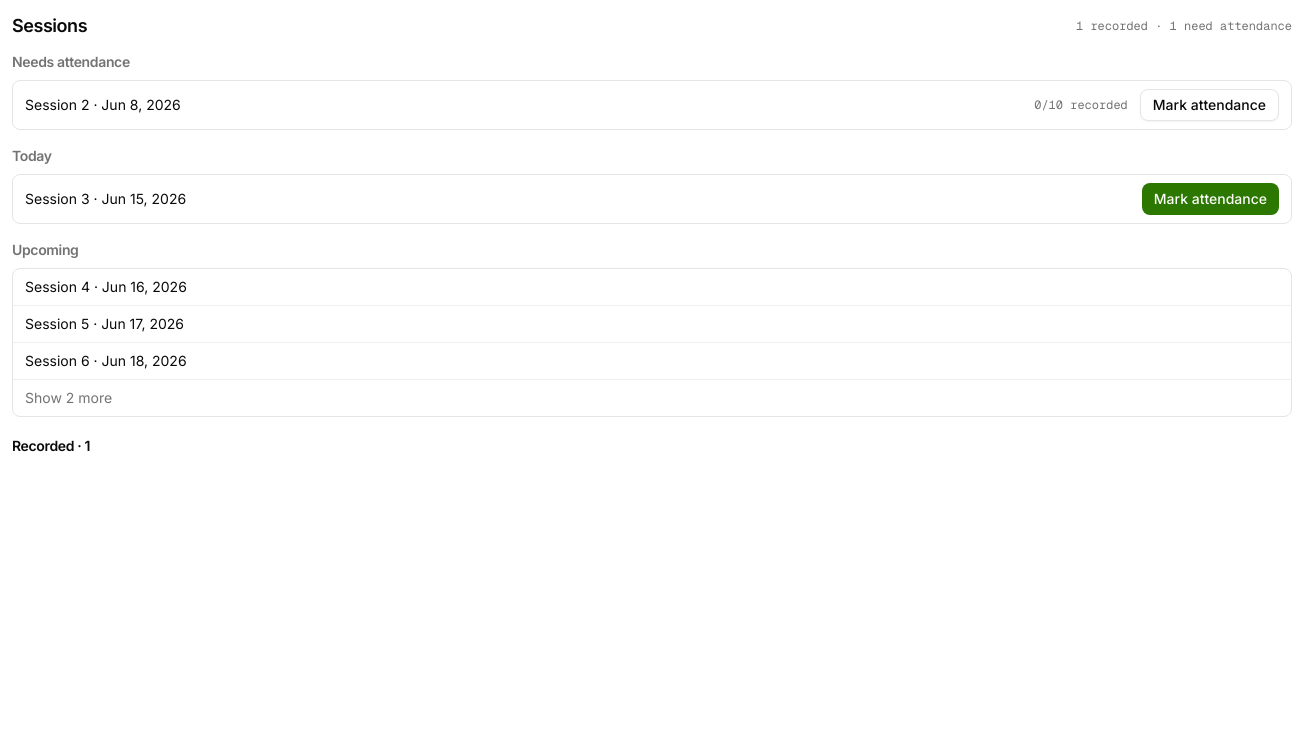
Scenario: <CourseSessionsSection /> › groups a marker’s Sessions by state with a summary line
This screenshot has width=1304, height=732.
Expected: the heading "Sessions" is shown, [12,12,87,40]
Expected: the text "1 recorded · 1 need attendance" is shown, [1076,18,1292,34]
Click the button "Recorded · 1". click: coordinates (51, 446)
box: [12,436,90,456]
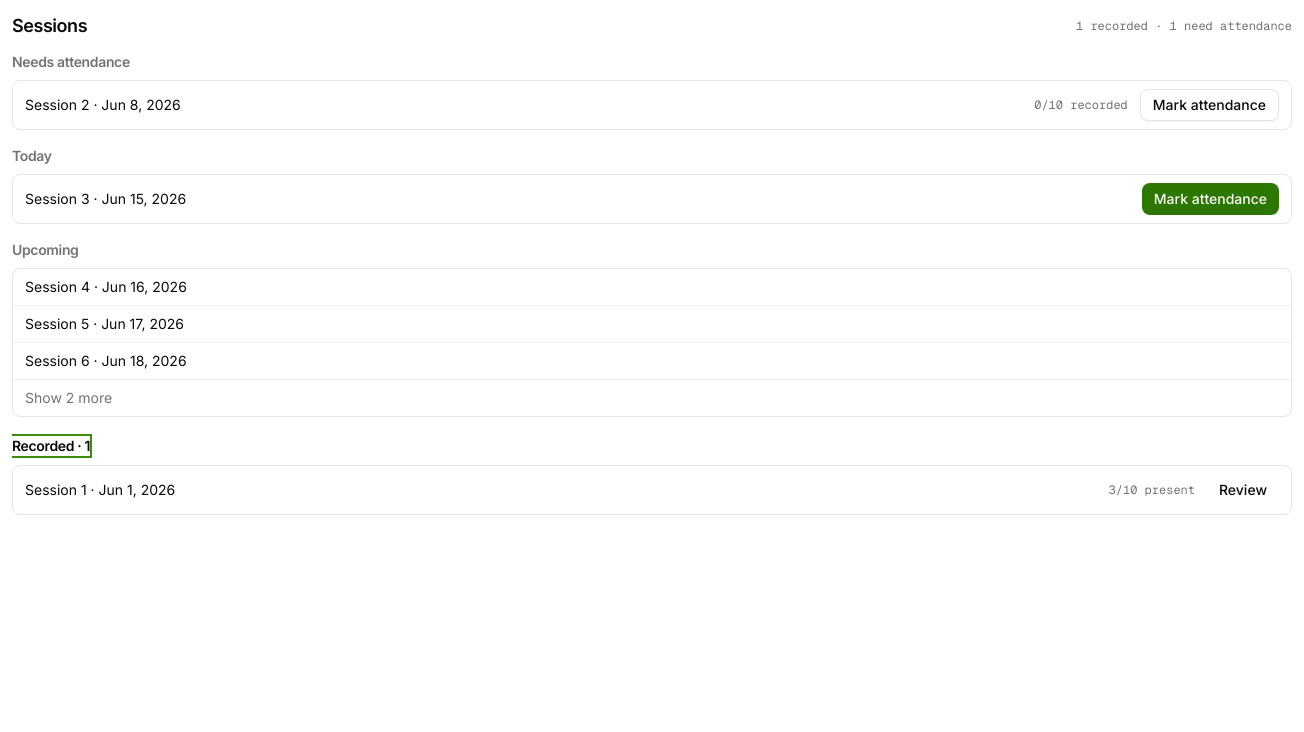
Expected: the list named "Recorded" is shown, [12,465,1292,515]
